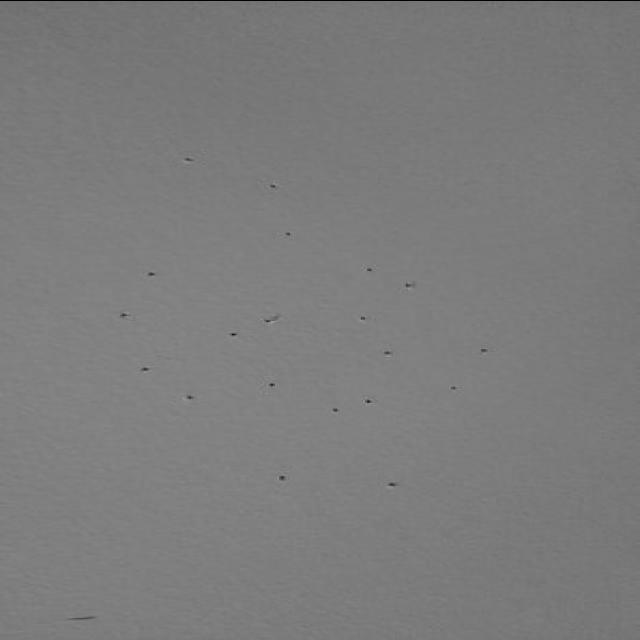pin holes: (257, 308, 288, 338), (322, 384, 342, 426), (278, 220, 306, 248), (399, 277, 426, 304), (175, 146, 201, 174), (377, 475, 403, 499), (262, 178, 288, 202), (357, 387, 379, 415), (357, 306, 377, 334), (377, 341, 401, 364), (220, 321, 242, 346), (468, 347, 494, 368), (180, 387, 203, 410), (357, 258, 381, 279), (442, 375, 464, 397), (136, 358, 158, 379), (140, 267, 163, 287), (113, 304, 133, 326), (266, 466, 288, 485), (264, 373, 280, 392)
